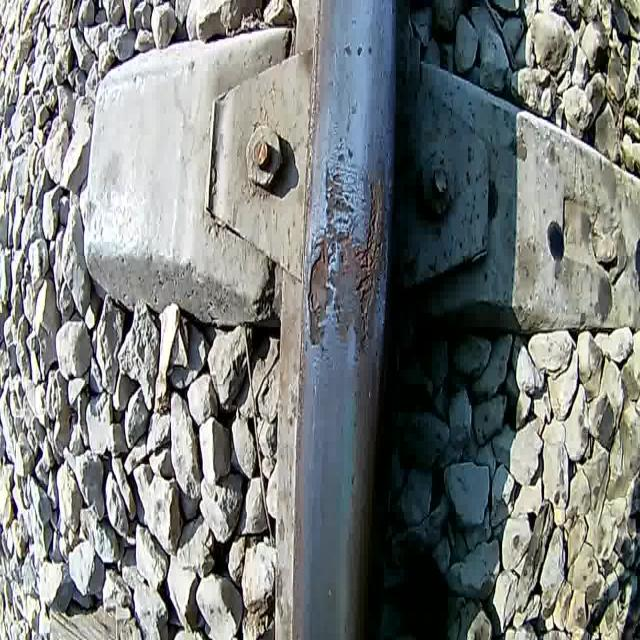Spallings: (305, 140, 390, 370)
